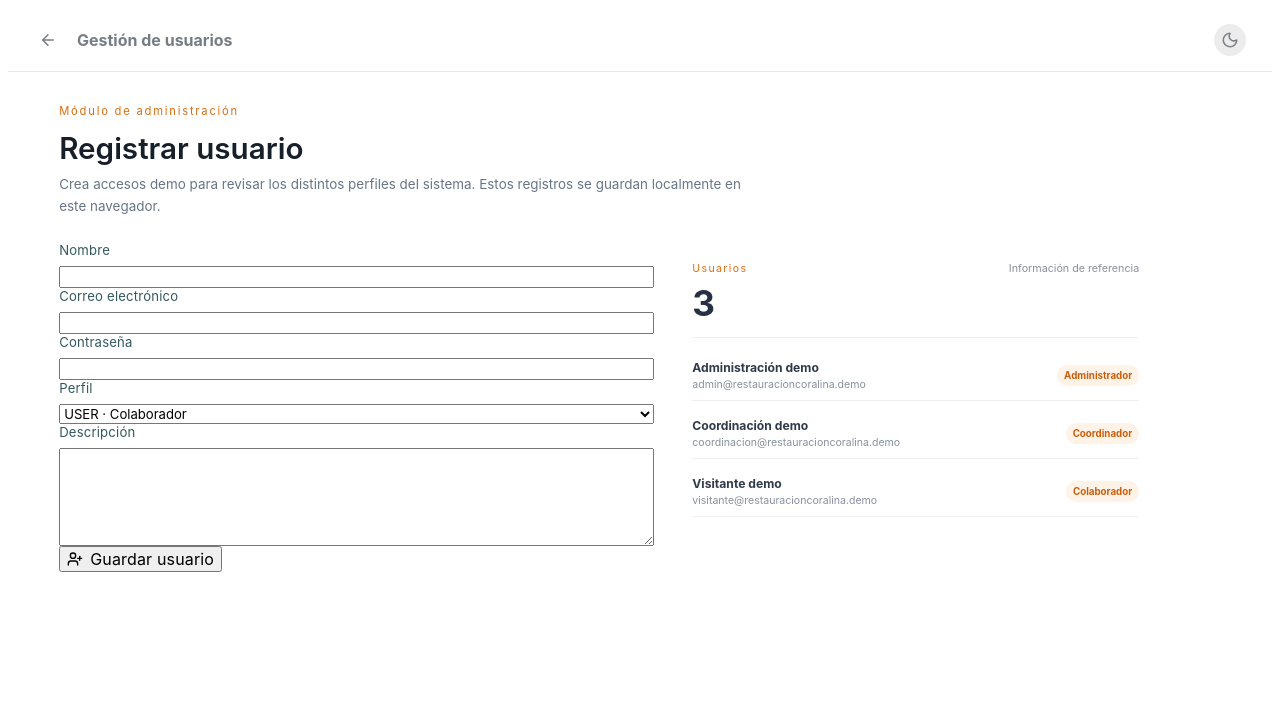
AdminUsersPage › rechaza correos duplicados
Type "Duplicado" into the field labelled "Nombre" at [357, 277], box [59,266,654,288]
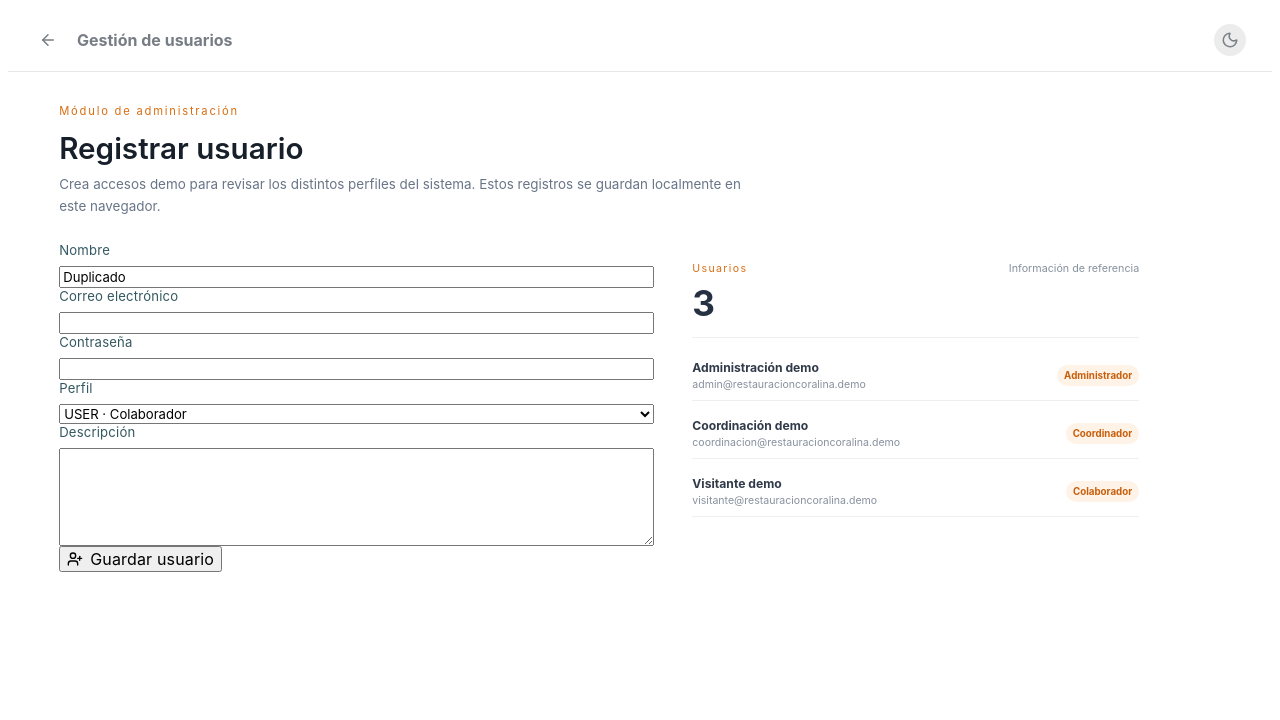
Type "admin@restauracioncoralina.demo" into the field labelled "Correo electrónico" at [357, 323], box [59,312,654,334]
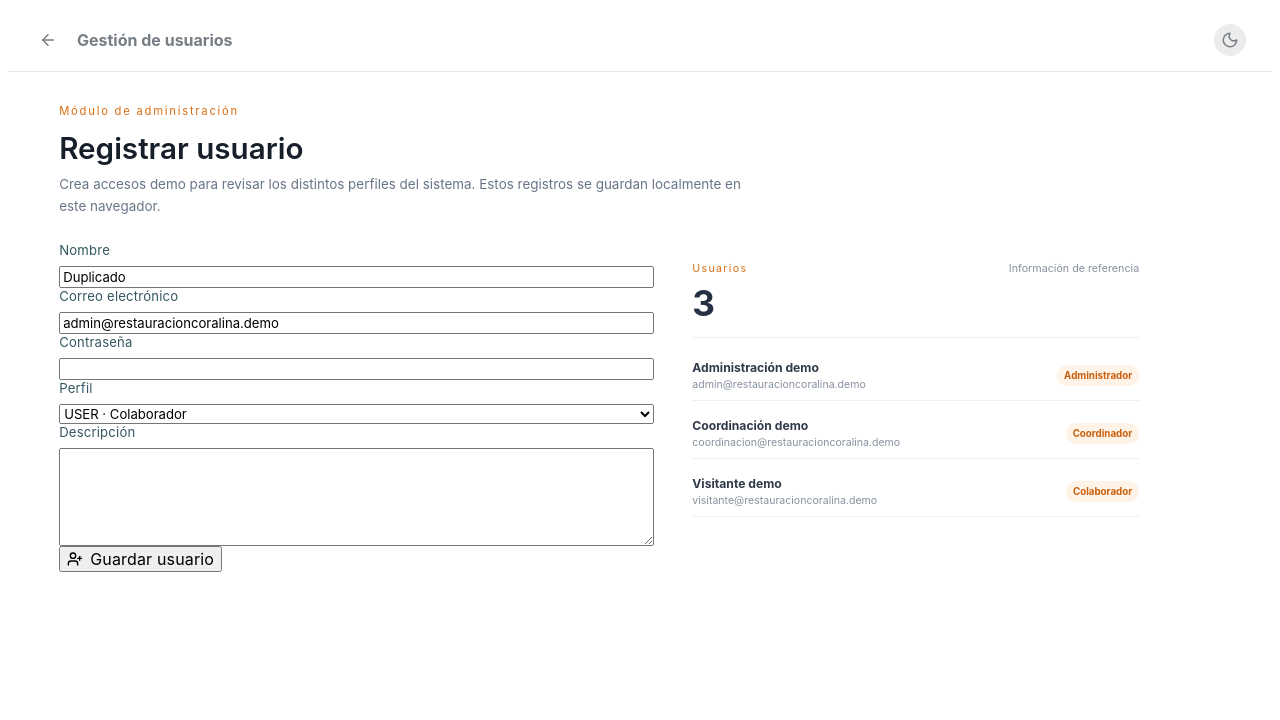
Type "NuevaClave2026!" into the password field labelled "Contraseña" at [357, 369], box [59,358,654,380]
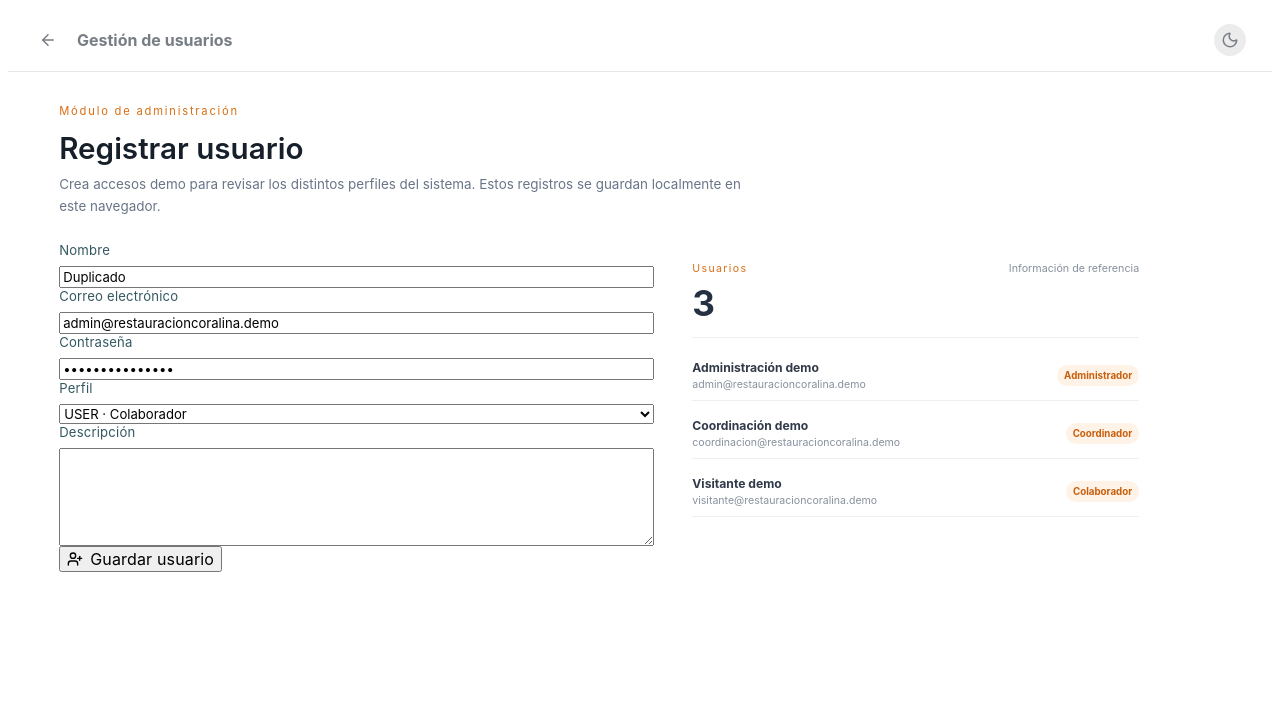
Click the button "Guardar usuario" at [141, 559], box [59,546,222,572]
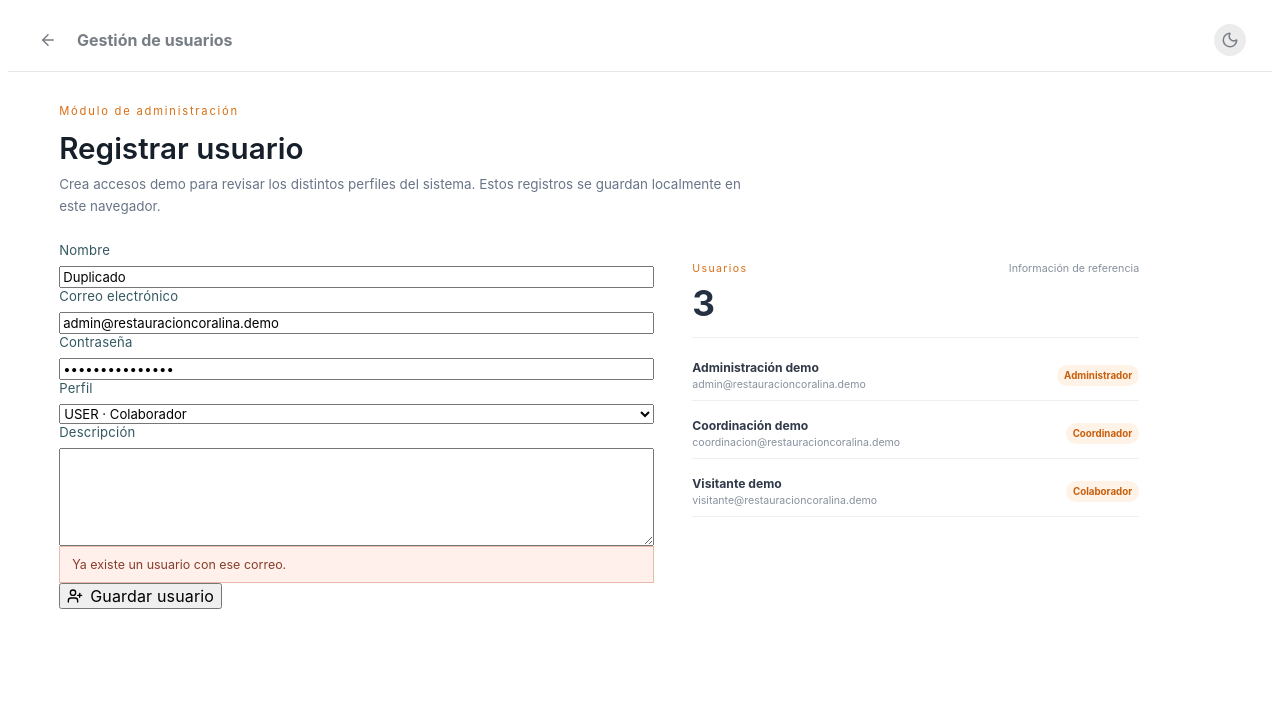
Result: the message shows "Ya existe" at [72,557,286,572]
